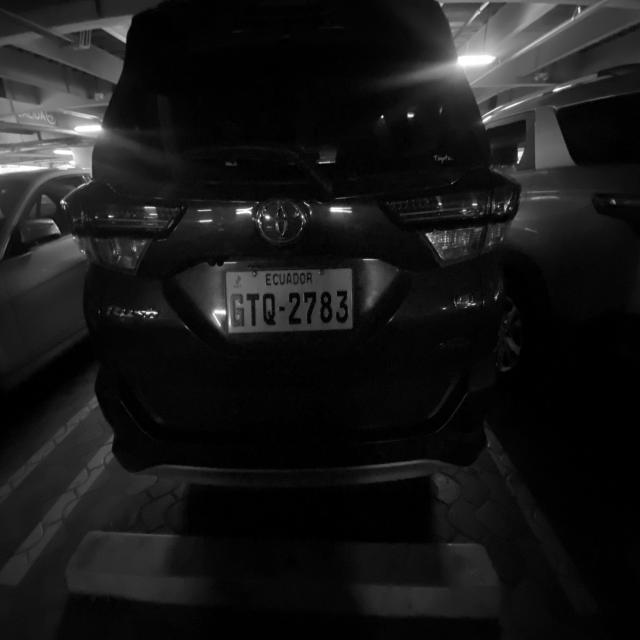Placa: (226, 268, 352, 333)
